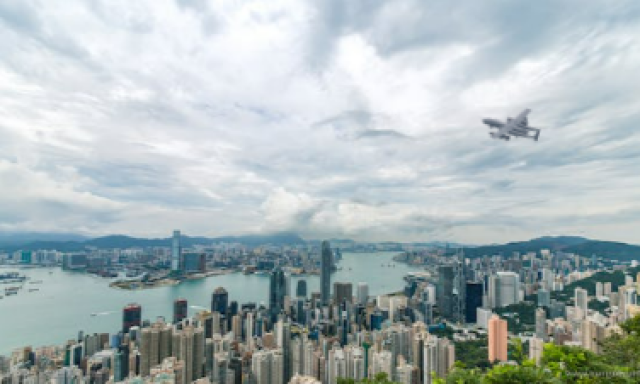military drone: (479, 108, 541, 141)
